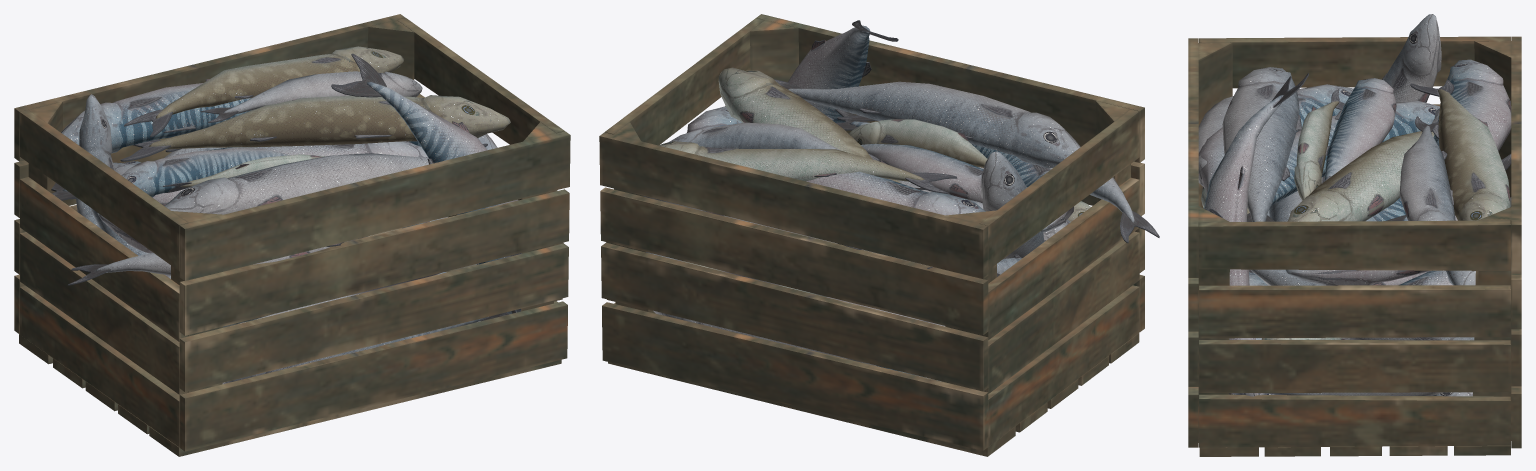
The picture shows the model from 3 angles, left to right: view 1: azimuth 30°, elevation 25°; view 2: azimuth 150°, elevation 25°; view 3: azimuth 270°, elevation 25°; orthographic projection.
Parts seen in each view (by area): view 1: SM_Box_3_01_LOD0; view 2: SM_Box_3_01_LOD0; view 3: SM_Box_3_01_LOD0.
Part boxes in pixels (x1,y1,x2,y2): SM_Box_3_01_LOD0: (14,14,570,456); SM_Box_3_01_LOD0: (599,14,1159,456); SM_Box_3_01_LOD0: (1188,14,1521,456).
Size of the model in its own units: 69.36 by 44.3 by 45.22.
2 materials, 2 textured.
